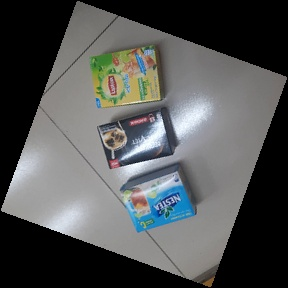CF Viet: (95, 107, 176, 171)
LipTon: (88, 44, 164, 107)
Nestea: (119, 163, 197, 234)
